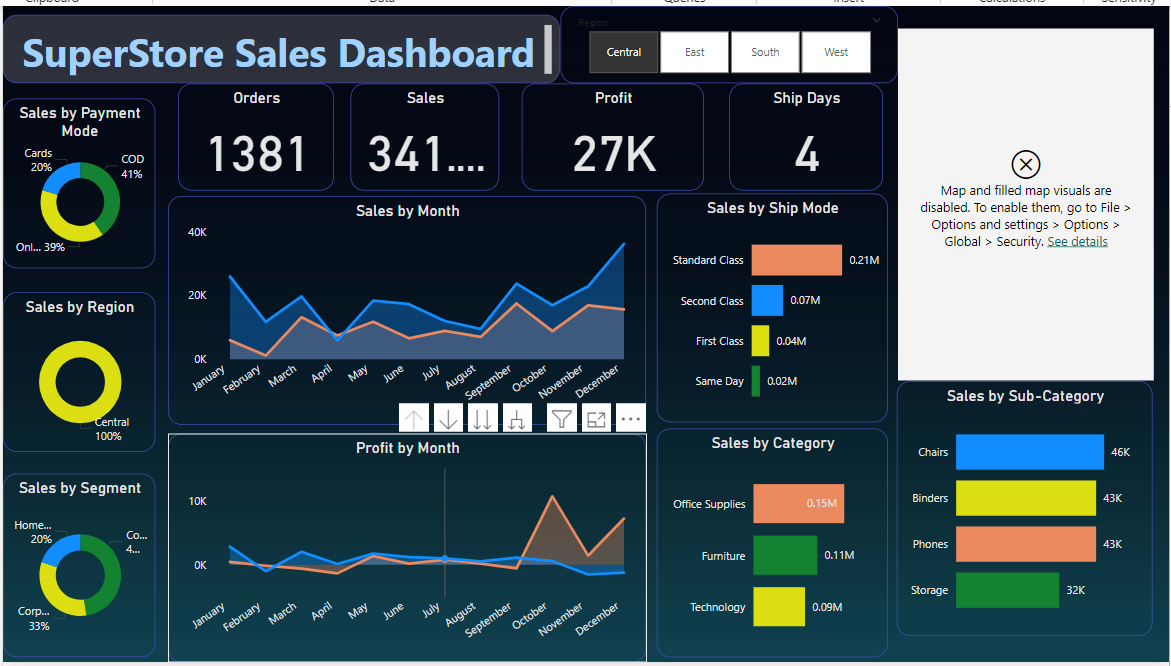

The page's visual inventory and layout, read from the dashboard file:
{"tool":"powerbi","page":{"name":"Page 1","canvas":[1280,720],"ordinal":0},"visuals":[{"type":"clusteredBarChart","title":"Sales by Category","fields":{"Category":["store_data.Category"],"Y":["Sum(store_data.Sales)"]},"box":[717.1,463.4,253.6,250.9],"z":0},{"type":"clusteredBarChart","title":"Sales by Sub-Category","fields":{"Category":["store_data.Sub-Category"],"Y":["Sum(store_data.Sales)"]},"box":[981.7,411.3,281.1,279.7],"z":1000},{"type":"clusteredBarChart","title":"Sales by Ship Mode","fields":{"Category":["store_data.Ship Mode"],"Y":["Sum(store_data.Sales)"]},"box":[717.1,205.7,253.6,250.9],"z":2000},{"type":"areaChart","title":"Sales by Month ","fields":{"Y":["Sum(store_data.Sales)"],"Category":["store_data.Order Date.Variation.Date Hierarchy.Month","store_data.Order Date.Variation.Date Hierarchy.Day"],"Series":["store_data.Order Date.Variation.Date Hierarchy.Year"]},"box":[181,208.4,525.1,250.9],"z":3000},{"type":"areaChart","title":"Profit by Month ","fields":{"Category":["store_data.Order Date.Variation.Date Hierarchy.Month","store_data.Order Date.Variation.Date Hierarchy.Day"],"Series":["store_data.Order Date.Variation.Date Hierarchy.Year"],"Y":["Sum(store_data.Profit)"]},"box":[181,468.9,525.1,250.9],"z":4000},{"type":"map","title":"Profit and Sales by State","fields":{"Category":["store_data.State"],"Size":["Sum(store_data.Sales)"]},"box":[983,24.7,281.1,386.6],"z":5000},{"type":"donutChart","title":"Sales by Segment","fields":{"Category":["store_data.Segment"],"Y":["Sum(store_data.Sales)"]},"box":[0,512.8,167.3,201.5],"z":6000},{"type":"donutChart","title":"Sales by Region","fields":{"Category":["store_data.Region"],"Y":["Sum(store_data.Sales)"]},"box":[0,314,167.3,175.5],"z":7000},{"type":"donutChart","title":"Sales by Payment Mode","fields":{"Category":["store_data.Payment Mode"],"Y":["Sum(store_data.Sales)"]},"box":[0,101.5,167.3,186.5],"z":8000},{"type":"textbox","box":[0,9.6,611.5,75.4],"z":9000},{"type":"slicer","fields":{"Values":["store_data.Region"]},"box":[611.5,0,370.2,85],"z":10000},{"type":"card","title":"Sales","fields":{"Values":["Sum(store_data.Sales)"]},"box":[381.2,85,163.2,117.9],"z":11000},{"type":"card","title":"Profit","fields":{"Values":["Sum(store_data.Profit)"]},"box":[569,85,200.2,117.9],"z":12000},{"type":"card","title":"Orders","fields":{"Values":["CountNonNull(store_data.Order ID)"]},"box":[191.9,85,171.4,117.9],"z":13000},{"type":"card","title":"Ship Days","fields":{"Values":["Avg(store_data.AvgDelivery)"]},"box":[796.6,85,168.6,117.9],"z":14000}]}

Visuals, with their boxes on the page's 1280x720 design canvas (x1, y1, x2, y2). These are canvas units, not pixel positions in the 1171x666 screenshot, which may show the page scaled, cropped or inside an application window:
"Sales by Category" clusteredBarChart: <bbox>717, 463, 971, 714</bbox>
"Sales by Sub-Category" clusteredBarChart: <bbox>982, 411, 1263, 691</bbox>
"Sales by Ship Mode" clusteredBarChart: <bbox>717, 206, 971, 457</bbox>
"Sales by Month " areaChart: <bbox>181, 208, 706, 459</bbox>
"Profit by Month " areaChart: <bbox>181, 469, 706, 720</bbox>
"Profit and Sales by State" map: <bbox>983, 25, 1264, 411</bbox>
"Sales by Segment" donutChart: <bbox>0, 513, 167, 714</bbox>
"Sales by Region" donutChart: <bbox>0, 314, 167, 490</bbox>
"Sales by Payment Mode" donutChart: <bbox>0, 102, 167, 288</bbox>
textbox: <bbox>0, 10, 612, 85</bbox>
slicer - store_data.Region: <bbox>612, 0, 982, 85</bbox>
"Sales" card: <bbox>381, 85, 544, 203</bbox>
"Profit" card: <bbox>569, 85, 769, 203</bbox>
"Orders" card: <bbox>192, 85, 363, 203</bbox>
"Ship Days" card: <bbox>797, 85, 965, 203</bbox>
